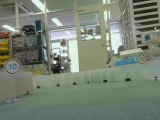speed_10: (2, 59, 21, 76), (135, 53, 147, 64)
